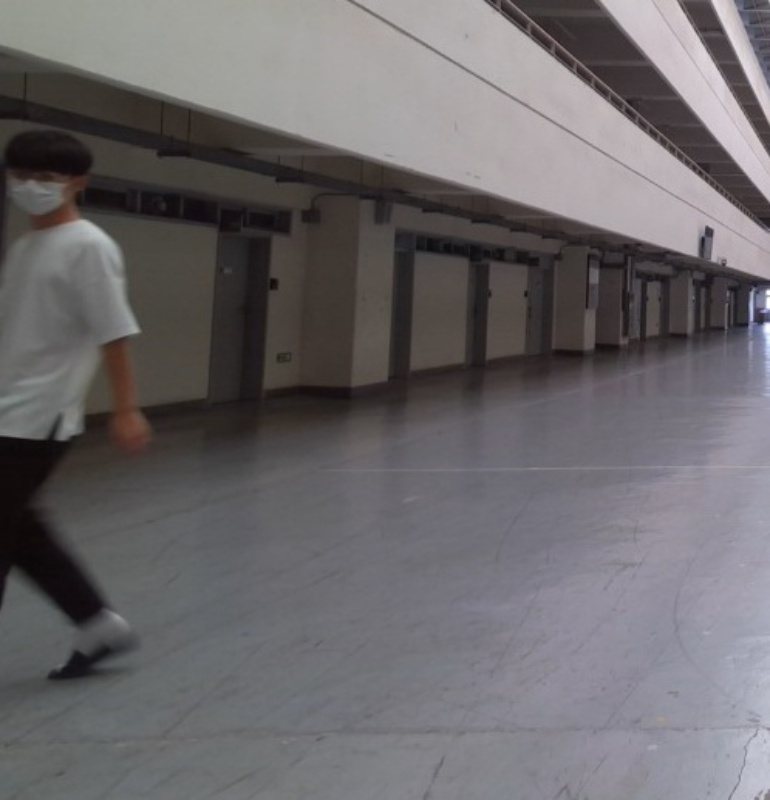person: (4, 132, 158, 683)
